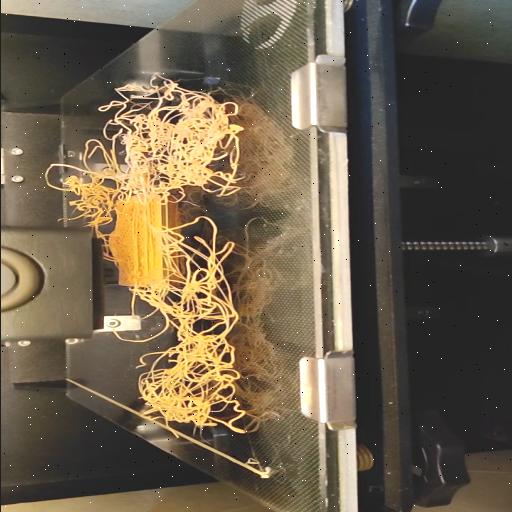spaghetti: (103, 62, 251, 438), (38, 138, 106, 231)
